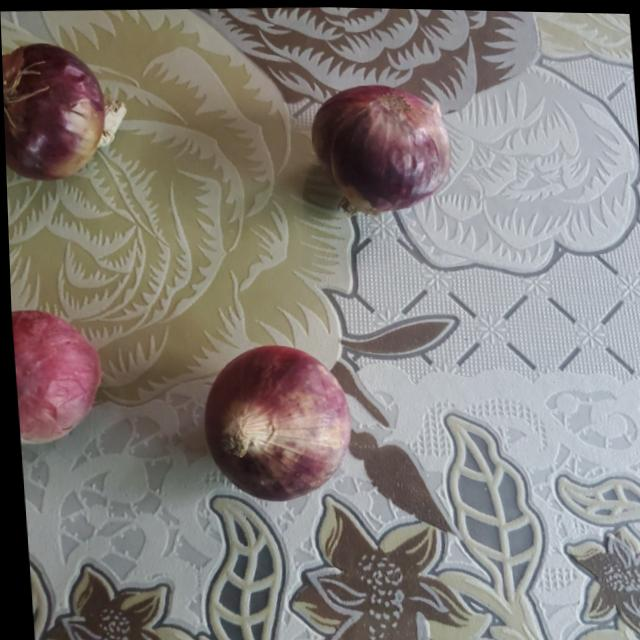onion: (199, 343, 353, 502), (311, 80, 458, 214), (1, 41, 104, 185), (9, 310, 100, 446)
